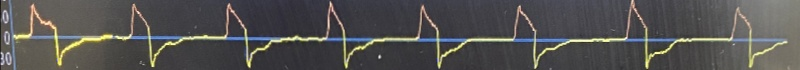normal_flow: (0, 0, 788, 70)
